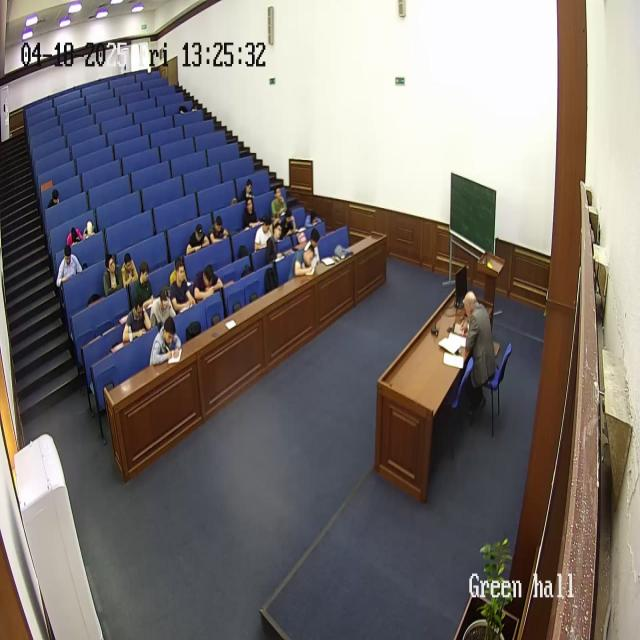person: (458, 290, 500, 402), (149, 316, 183, 368), (168, 258, 196, 314), (123, 296, 151, 343), (149, 287, 177, 333), (194, 261, 222, 305), (56, 246, 82, 292), (132, 260, 154, 311), (102, 252, 124, 298), (291, 243, 317, 281), (185, 223, 211, 257), (253, 212, 274, 252), (267, 220, 287, 262), (302, 225, 322, 264), (120, 251, 140, 289), (208, 213, 230, 246), (242, 193, 260, 230), (270, 185, 288, 220), (280, 205, 298, 239), (66, 225, 84, 251), (242, 177, 256, 204), (46, 187, 60, 210)
